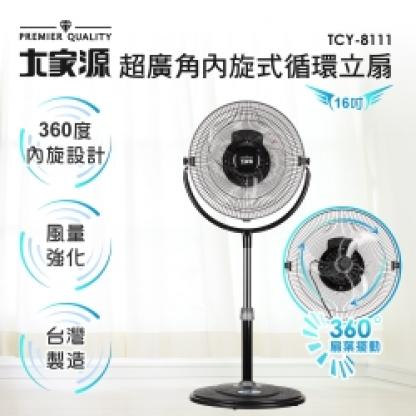fan: (178, 90, 322, 414)
